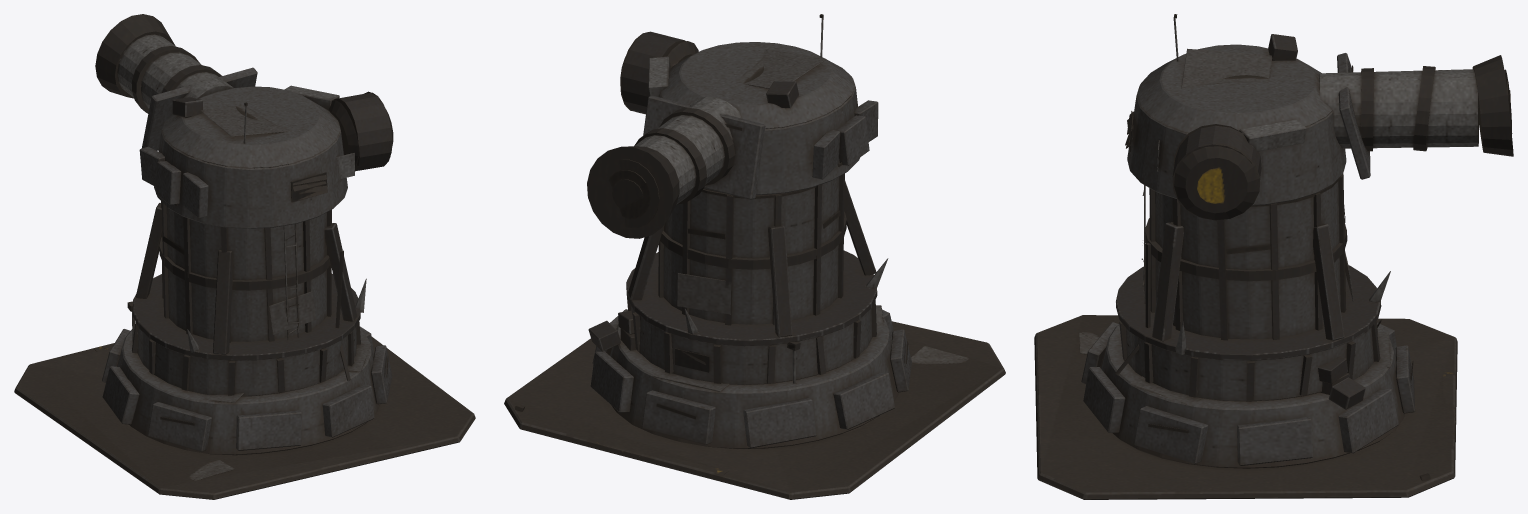
Rendered from chs_maw_wreck.fbx.
The picture shows the model from 3 angles, left to right: view 1: azimuth 30°, elevation 25°; view 2: azimuth 150°, elevation 25°; view 3: azimuth 270°, elevation 25°; orthographic projection. The views are drawn at different scales.
Visible parts, largest first — view 1: base_bar, turret_bar; view 2: base_bar, turret_bar; view 3: base_bar, turret_bar.
Boxes of the visible parts, x1,y1,x2,y2 form: base_bar: (14, 201, 475, 499); turret_bar: (95, 14, 393, 228); base_bar: (504, 173, 1005, 499); turret_bar: (587, 14, 878, 238); base_bar: (1034, 173, 1457, 499); turret_bar: (1125, 14, 1513, 220).
Bounding box in the file's own units: 2347 × 2526 × 2669.
2 materials, 2 textured.
